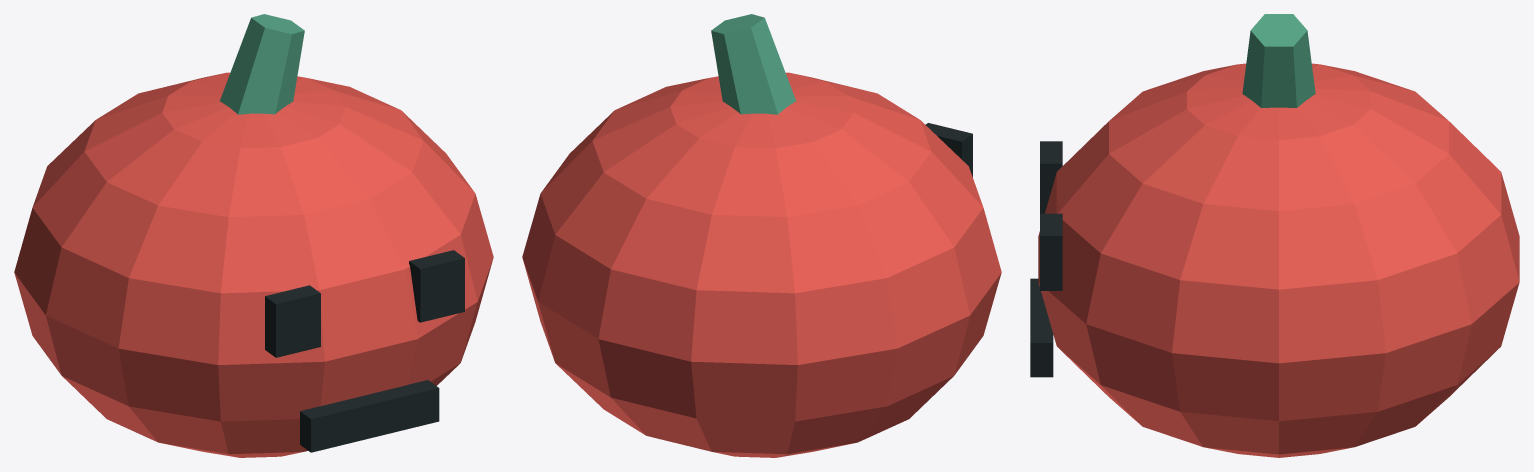
File: ParkParkDecorPumpkin.obj
3 views of the same model, side by side, from view 1: azimuth 30°, elevation 25°; view 2: azimuth 150°, elevation 25°; view 3: azimuth 270°, elevation 25° (orthographic). The views are drawn at different scales.
Visible parts, largest first — view 1: ParkParkDecorPumpkin; view 2: ParkParkDecorPumpkin; view 3: ParkParkDecorPumpkin.
Part boxes in pixels (<box>): ParkParkDecorPumpkin: <box>14,14,493,457</box>; ParkParkDecorPumpkin: <box>522,14,1001,457</box>; ParkParkDecorPumpkin: <box>1030,14,1519,457</box>.
Size of the model in its own units: 2.6 by 2.44 by 2.58.
